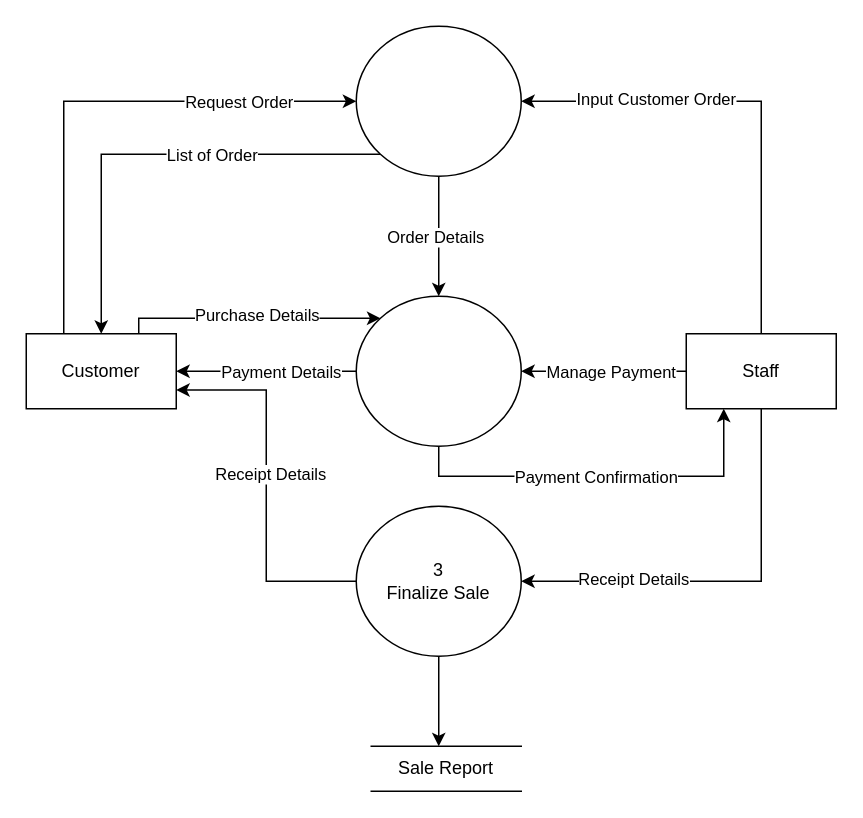
This 863x818 diagram has some shape labels left out. The centre of each missing label's shape, as x and y in pixels:
1 Capture Customer Order: [438,100]
2 Process Payment: [438,370]
